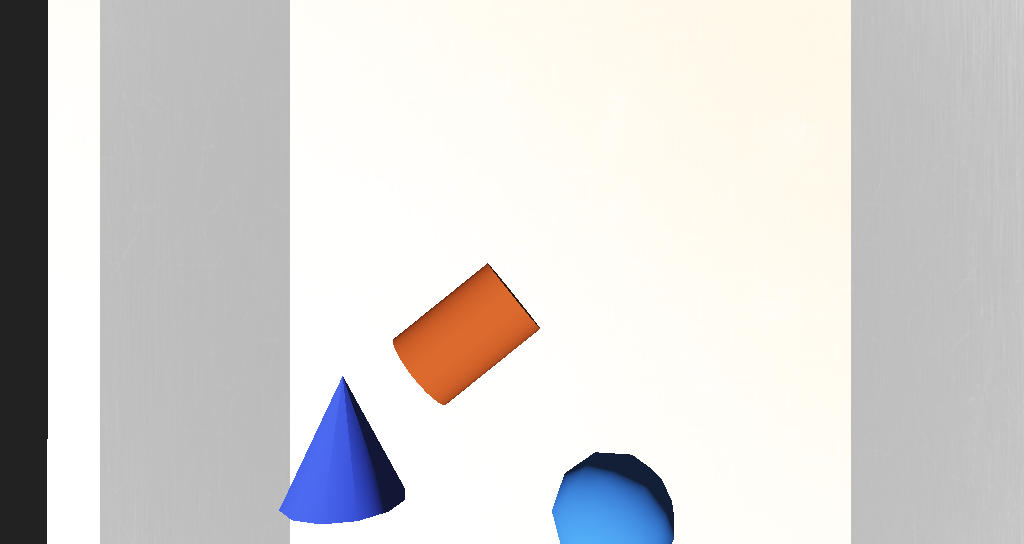cone: (404, 262, 485, 320)
cylinder: (347, 303, 421, 356)
sphere: (492, 336, 559, 379)
